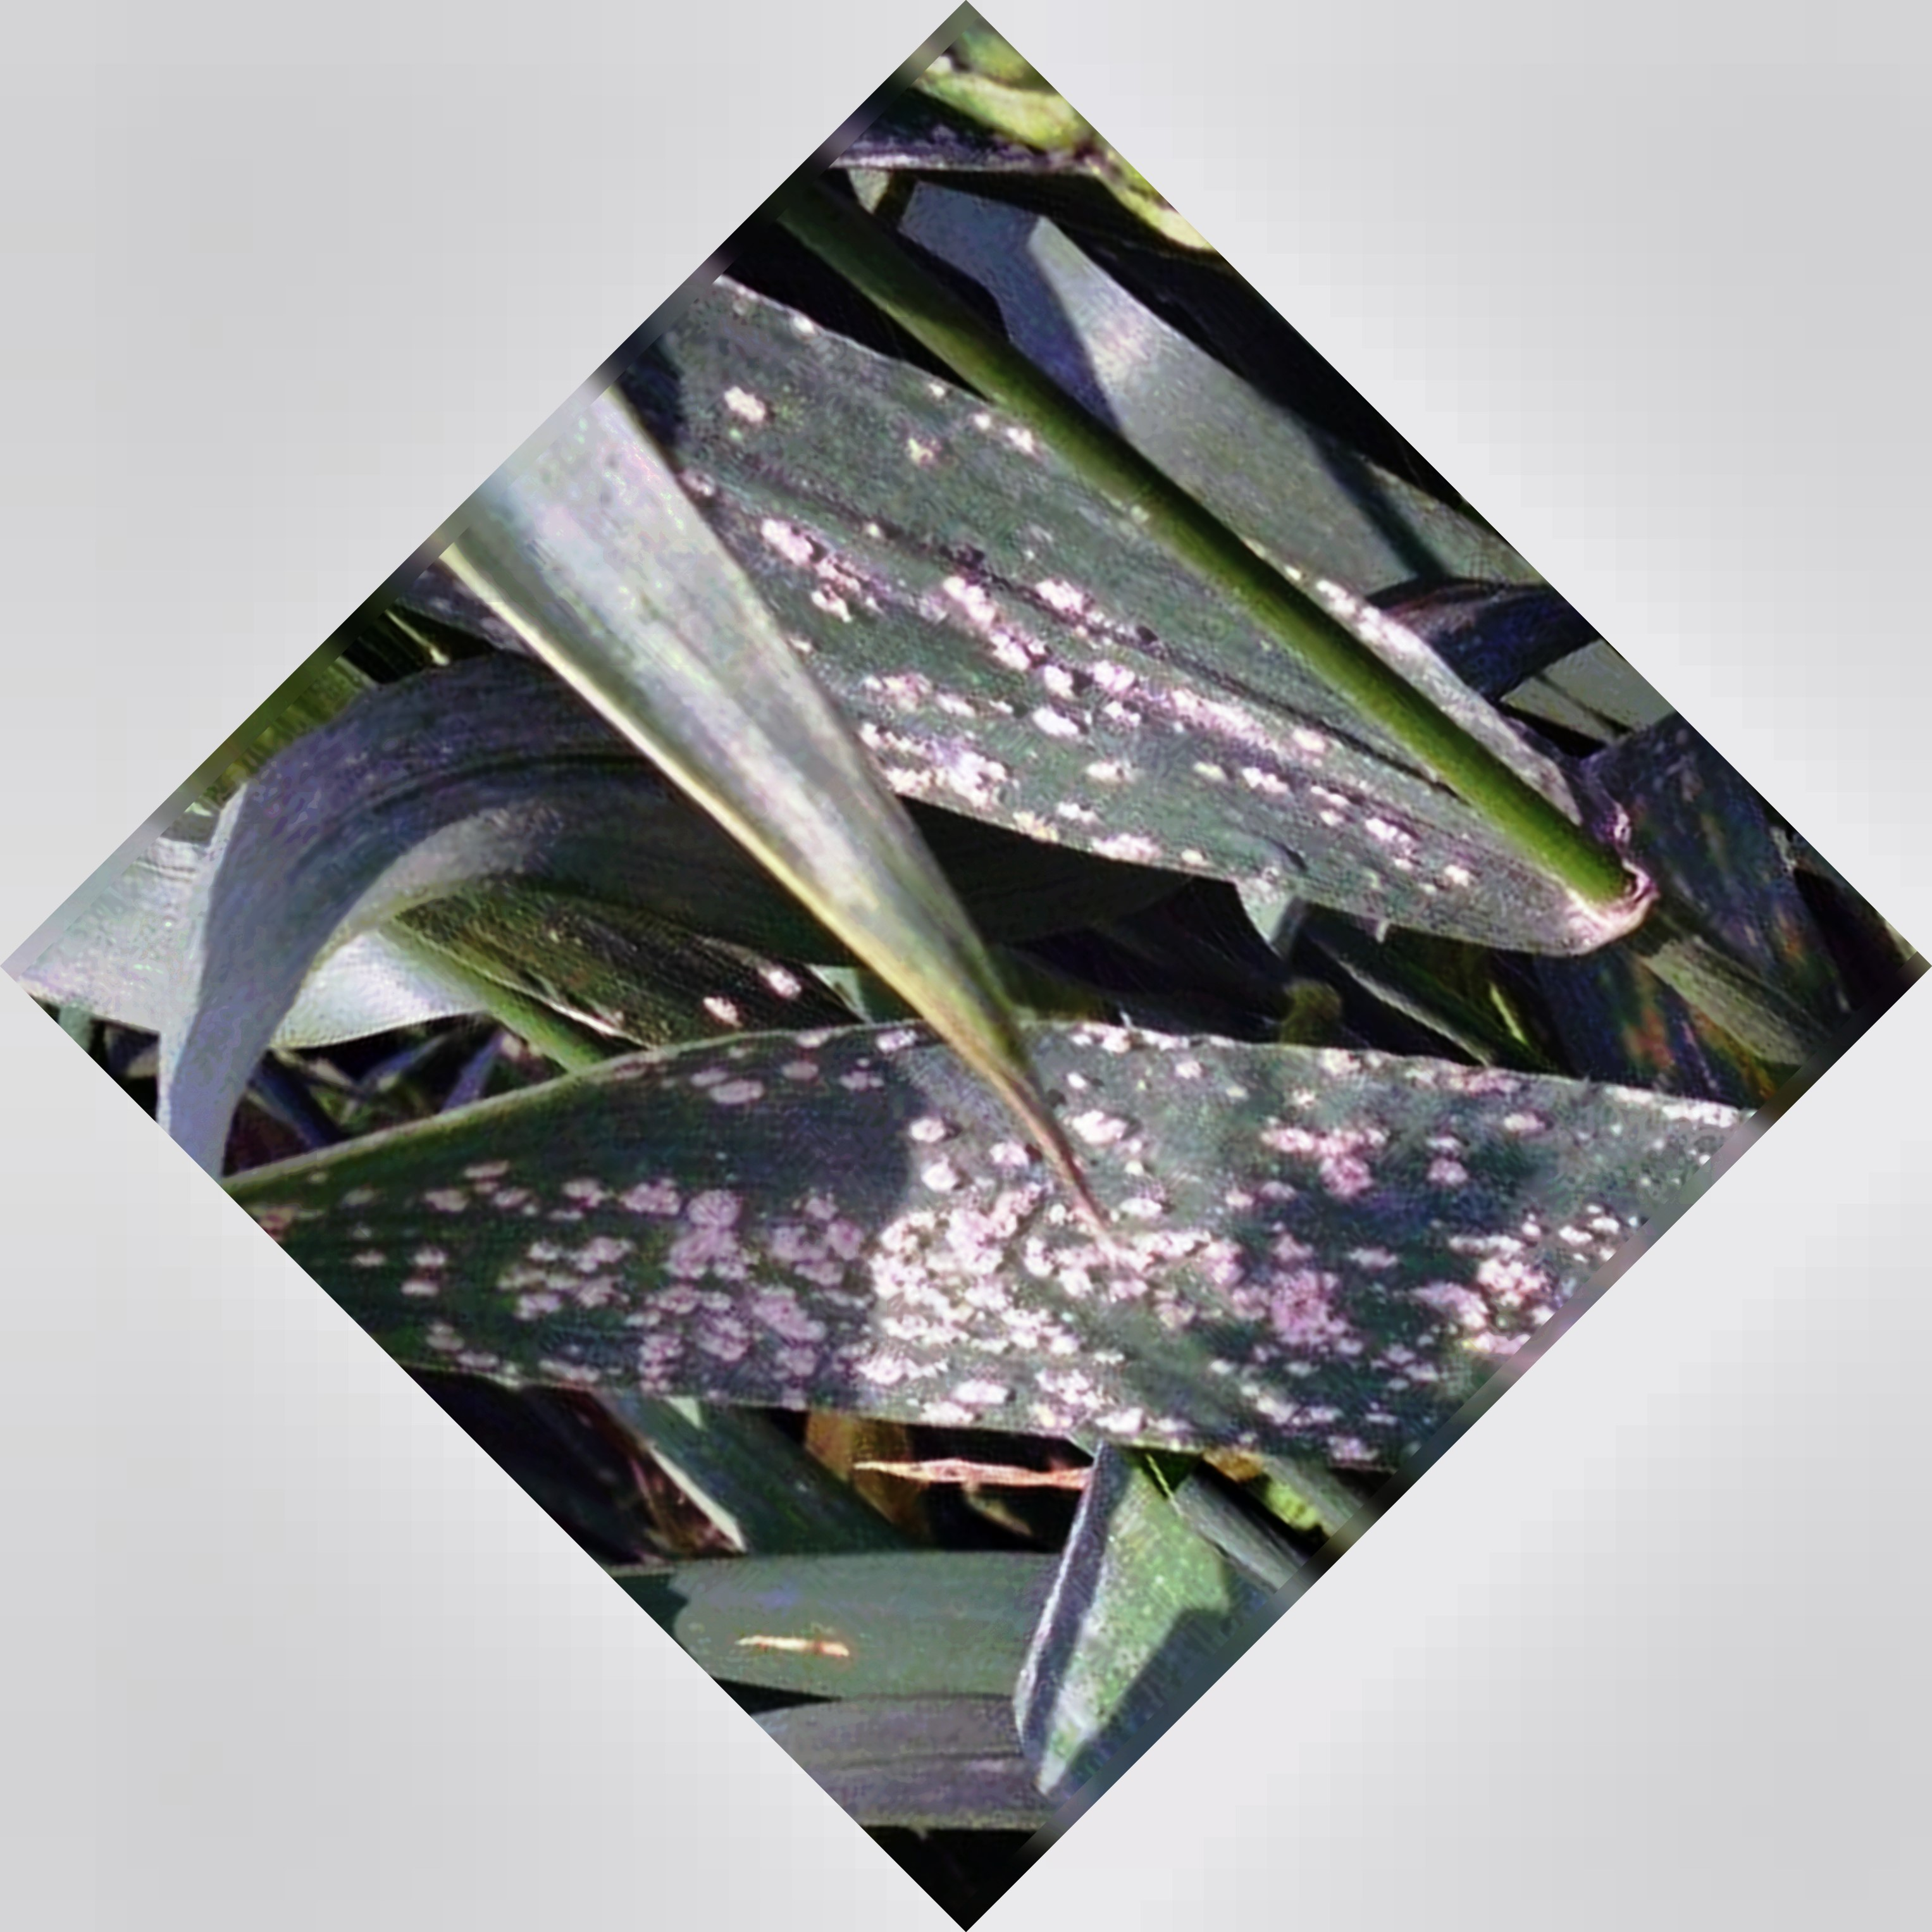Powdery Mildew: (533, 1017, 1573, 1445)
